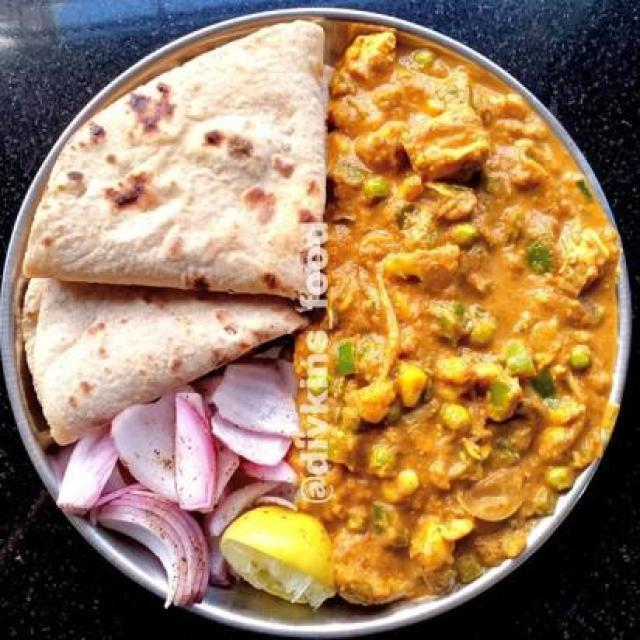dalmakhani: (41, 56, 343, 382)
